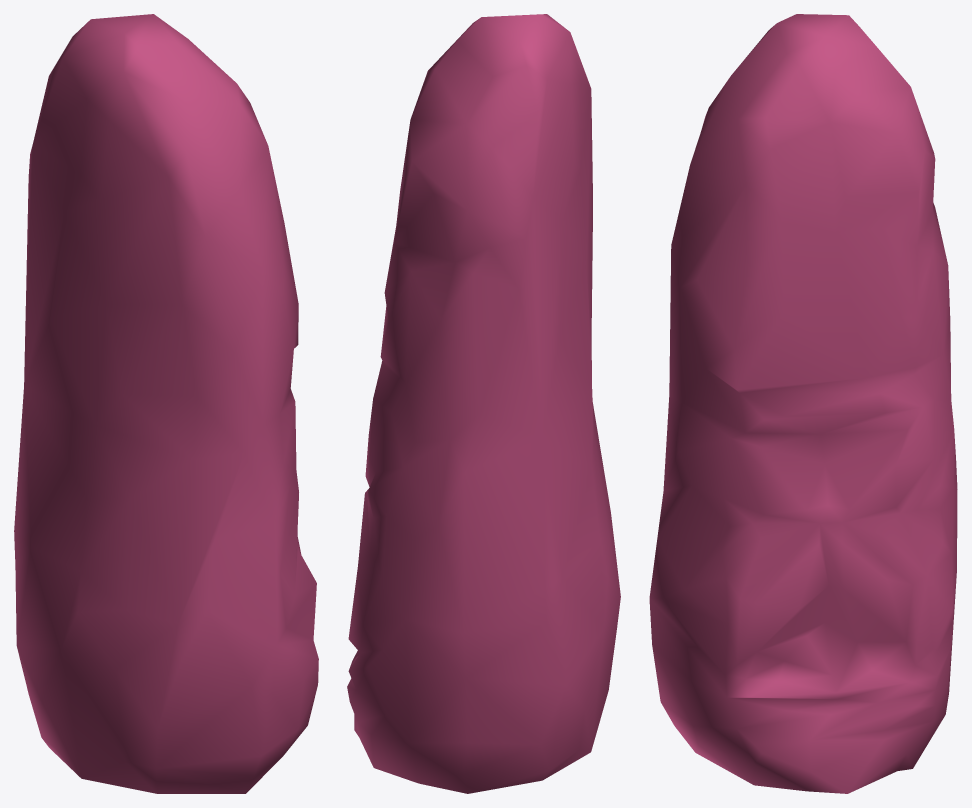
Rendered from arena_Menhir_02.fbx.
3 renders of one model, left to right at view 1: azimuth 30°, elevation 25°; view 2: azimuth 150°, elevation 25°; view 3: azimuth 270°, elevation 25°, orthographic. The views are drawn at different scales.
Visible parts, largest first — view 1: Menhir_02; view 2: Menhir_02; view 3: Menhir_02.
Boxes of the visible parts, box(x1,y1,x2,y2) form: Menhir_02: box(14, 14, 318, 793); Menhir_02: box(347, 14, 620, 793); Menhir_02: box(649, 14, 957, 793).
Size of the model in its own units: 3.09 by 9.21 by 3.64.
